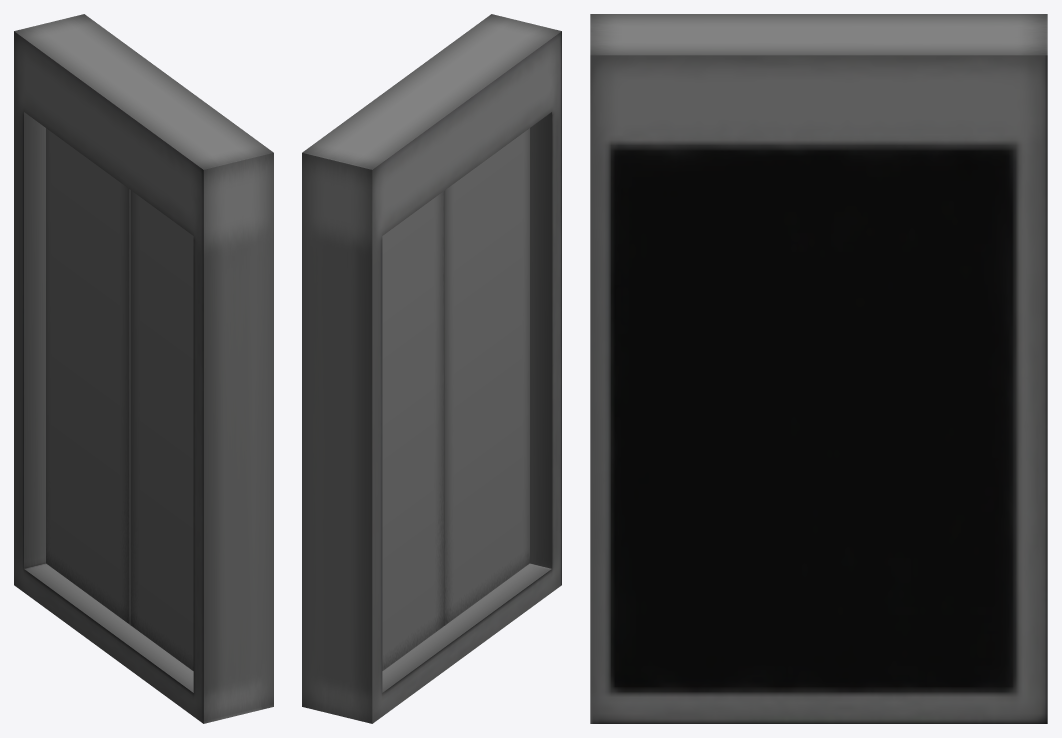
The model's file is elevator.fbx.
The picture shows the model from 3 angles, left to right: view 1: azimuth 30°, elevation 25°; view 2: azimuth 150°, elevation 25°; view 3: azimuth 270°, elevation 25°; orthographic projection. The views are drawn at different scales.
Parts seen in each view (by area): view 1: Cube.015, Cube.052, Cube.053; view 2: Cube.015, Cube.053, Cube.052; view 3: Cube.015.
Boxes of the visible parts, x1,y1,x2,y2 form: Cube.015: [14, 14, 273, 723]; Cube.052: [46, 128, 130, 624]; Cube.053: [130, 190, 193, 670]; Cube.015: [302, 14, 561, 723]; Cube.053: [444, 128, 529, 625]; Cube.052: [382, 191, 443, 670]; Cube.015: [590, 14, 1047, 723].
Bounding box in the file's own units: 12.46 × 93.76 × 58.16.
Materials: 4 (3 with a texture image).
